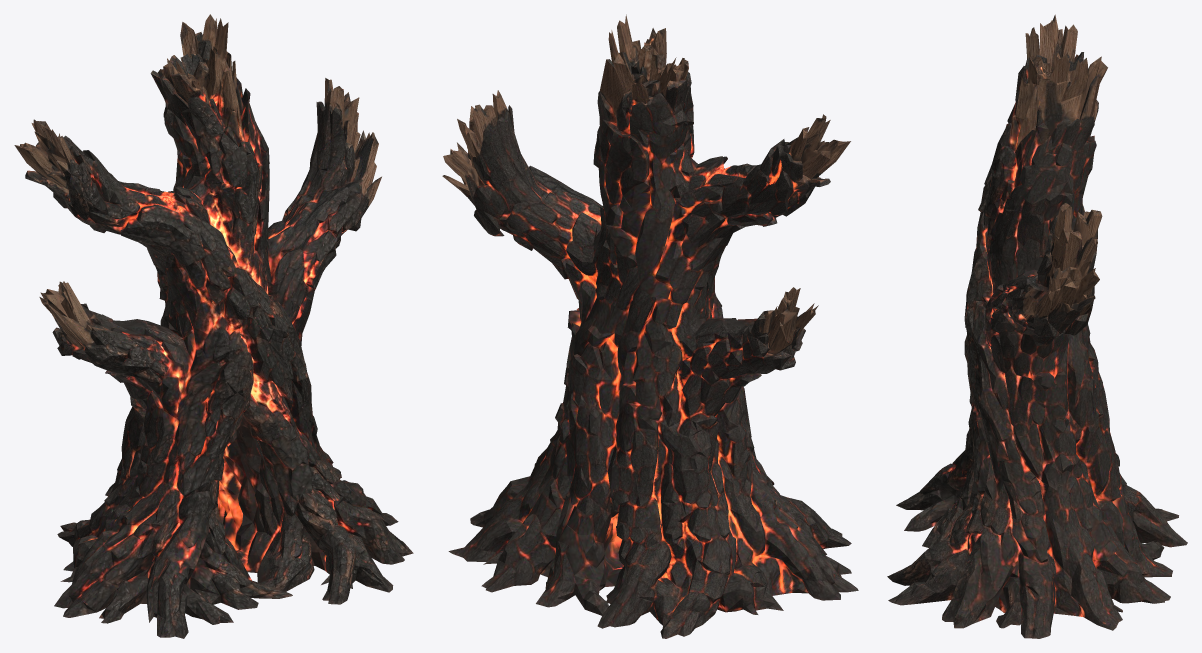
Rendered from tree_burned.glb.
3 renders of one model, left to right at view 1: azimuth 30°, elevation 25°; view 2: azimuth 150°, elevation 25°; view 3: azimuth 270°, elevation 25°, orthographic. The views are drawn at different scales.
Bounding box in the file's own units: 1.4 × 1.9 × 1.01.
1 material, 1 textured.
